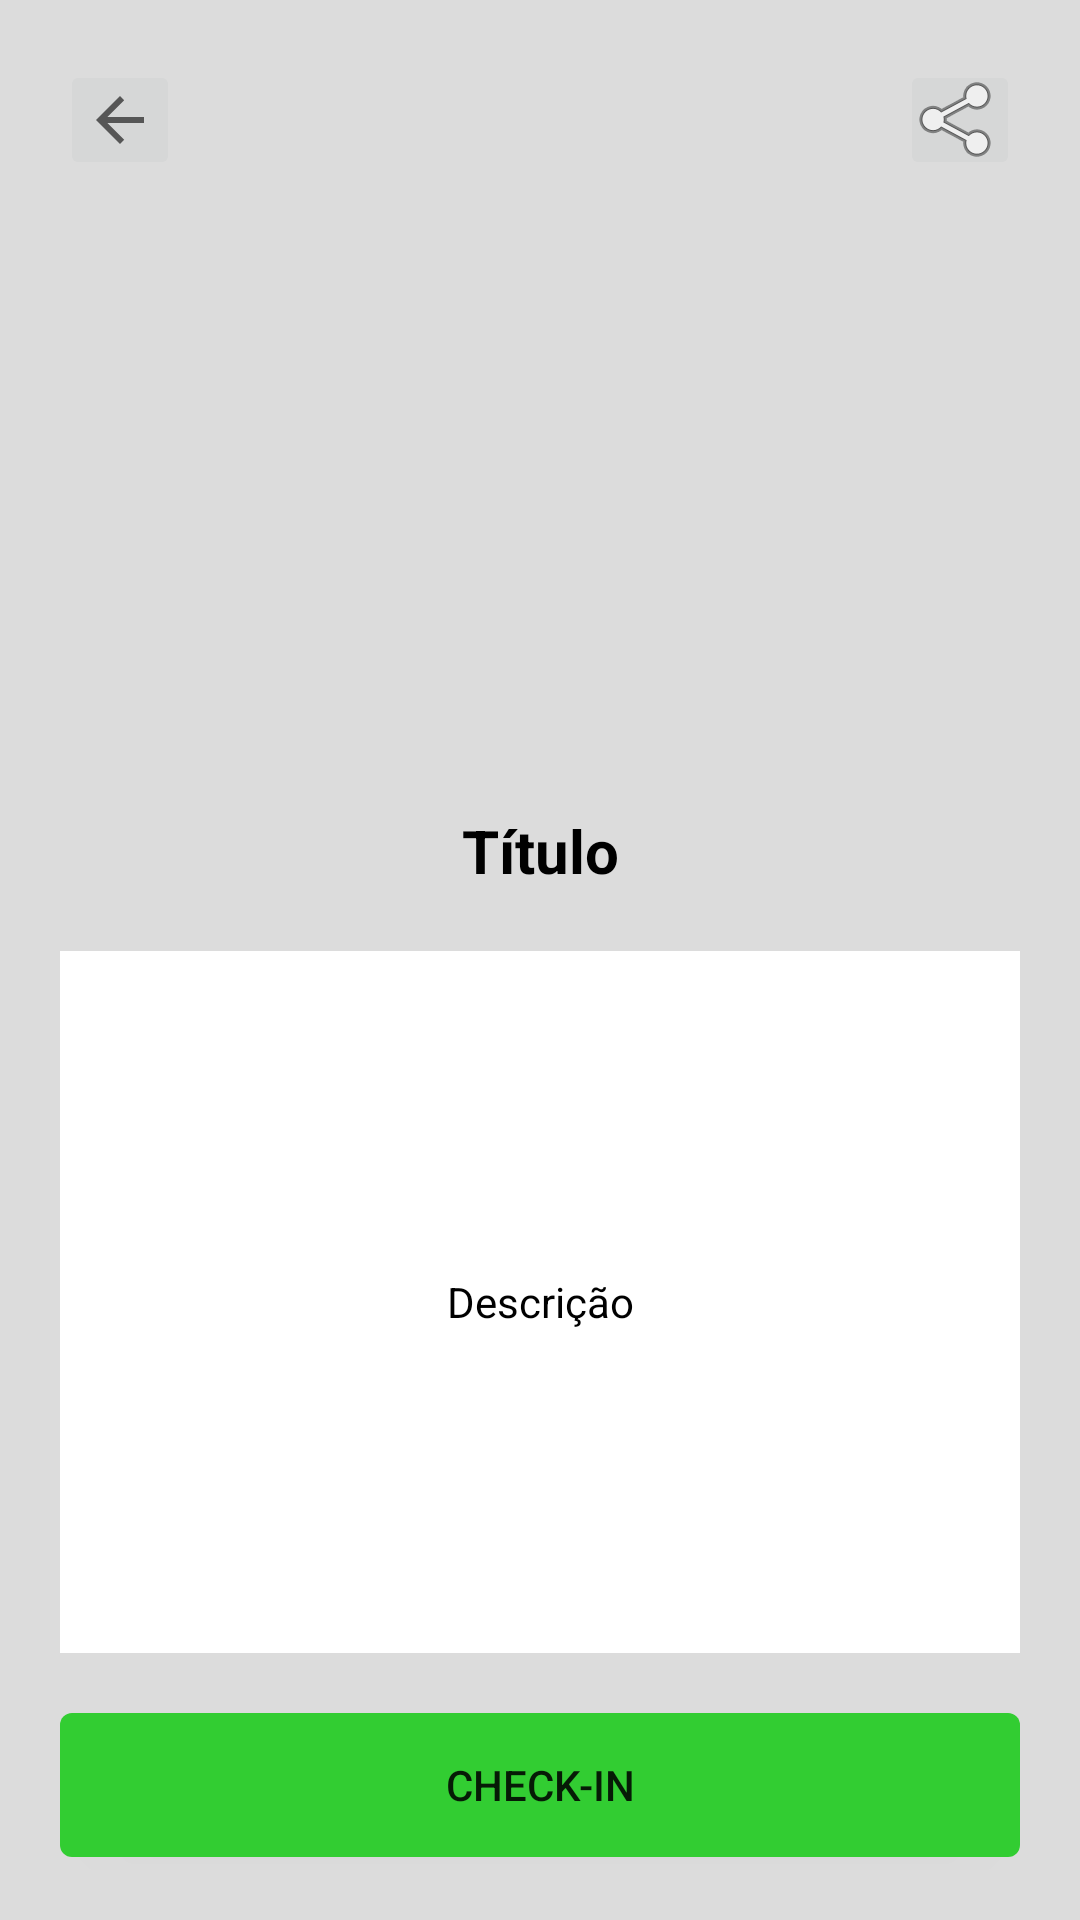

Where to tap for icons on this 1080w x 1920h app screen, as [x,y]:
share: [955,119]
